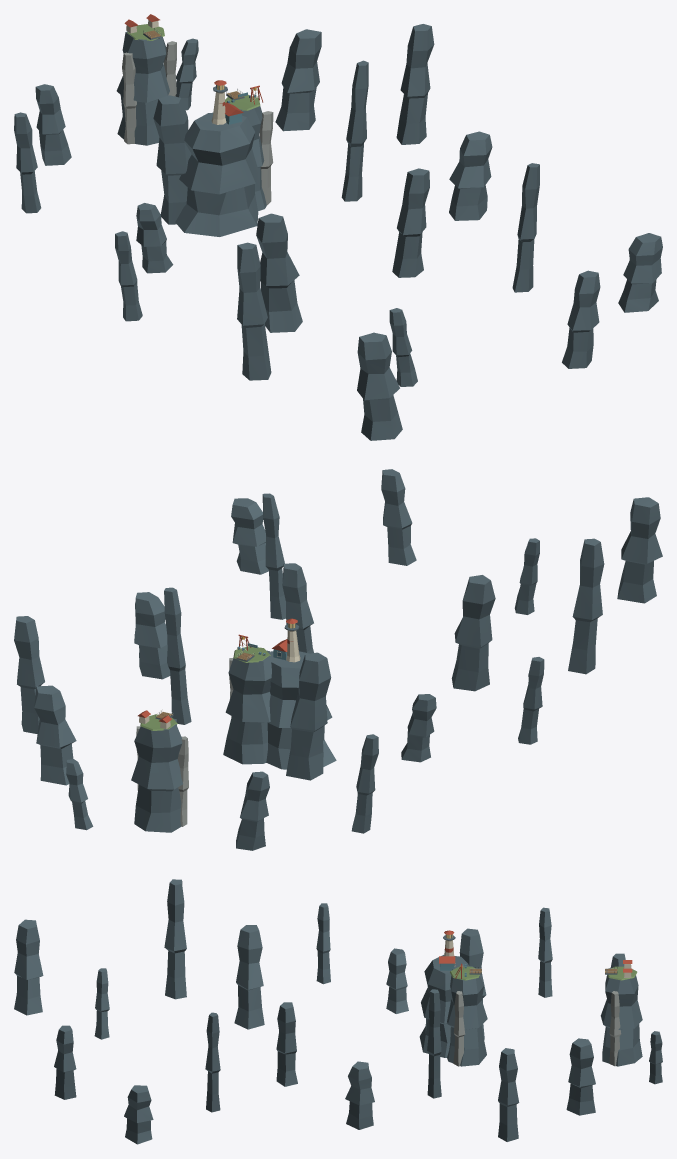
Rendered from sea-stacks-Bl0IEZV_.glb.
3 renders of one model, top to bottom at view 1: azimuth 30°, elevation 25°; view 2: azimuth 150°, elevation 25°; view 3: azimuth 270°, elevation 25°, orthographic. The views are drawn at different scales.
Visible parts, largest first — view 1: Rebuilt_sea-stacks_Paint_basalt.003, Rebuilt_sea-stacks_Paint_stone.003, Rebuilt_sea-stacks_Paint_leaf.003; view 2: Rebuilt_sea-stacks_Paint_basalt.003, Rebuilt_sea-stacks_Paint_stone.003, Rebuilt_sea-stacks_Paint_leaf.003, Rebuilt_sea-stacks_Paint_ivory.003; view 3: Rebuilt_sea-stacks_Paint_basalt.003, Rebuilt_sea-stacks_Paint_stone.003, Rebuilt_sea-stacks_Paint_leaf.003.
Part boxes in pixels (x1=…): Rebuilt_sea-stacks_Paint_basalt.003: x1=14, y1=24, x2=662, y2=440; Rebuilt_sea-stacks_Paint_stone.003: x1=122, y1=41, x2=273, y2=205; Rebuilt_sea-stacks_Paint_leaf.003: x1=127, y1=24, x2=260, y2=110; Rebuilt_sea-stacks_Paint_basalt.003: x1=14, y1=469, x2=662, y2=850; Rebuilt_sea-stacks_Paint_stone.003: x1=136, y1=656, x2=281, y2=826; Rebuilt_sea-stacks_Paint_leaf.003: x1=140, y1=646, x2=270, y2=730; Rebuilt_sea-stacks_Paint_ivory.003: x1=139, y1=630, x2=300, y2=729; Rebuilt_sea-stacks_Paint_basalt.003: x1=14, y1=879, x2=662, y2=1144; Rebuilt_sea-stacks_Paint_stone.003: x1=453, y1=965, x2=621, y2=1066; Rebuilt_sea-stacks_Paint_leaf.003: x1=450, y1=966, x2=637, y2=980.
Bounding box in the file's own units: 199 × 62.1 × 316.
